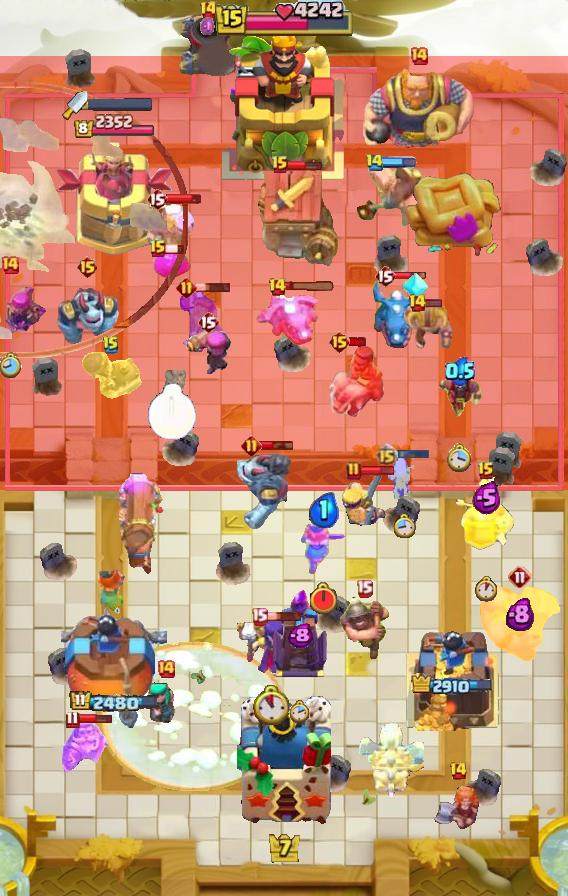archer-evolution: (0, 280, 48, 336)
bar: (284, 281, 336, 292), (266, 610, 303, 622), (195, 281, 232, 293), (259, 439, 295, 451), (166, 193, 202, 205), (381, 156, 417, 168), (78, 713, 113, 725), (287, 160, 323, 171), (360, 465, 395, 476), (395, 449, 430, 460), (393, 271, 427, 281), (165, 243, 185, 255), (349, 336, 368, 348), (424, 298, 443, 308)
bar-level: (508, 565, 532, 589), (328, 330, 351, 354), (76, 255, 99, 279), (375, 443, 398, 466), (197, 310, 219, 334), (374, 264, 396, 288), (146, 187, 168, 211), (241, 435, 262, 456), (176, 277, 197, 298), (156, 659, 176, 679), (0, 255, 20, 275), (409, 46, 429, 66), (449, 761, 468, 781), (408, 293, 427, 313), (268, 277, 287, 297), (199, 0, 218, 20), (365, 153, 384, 172), (477, 461, 495, 481), (102, 335, 120, 355), (149, 239, 167, 259), (271, 155, 289, 175), (251, 607, 268, 626), (356, 579, 373, 598), (346, 461, 362, 481), (65, 710, 80, 729)
barbarian-evolution: (340, 476, 388, 528)
bomber-evolution: (80, 348, 142, 400)
clock: (147, 383, 197, 441), (253, 685, 289, 725), (308, 582, 339, 616), (447, 442, 473, 472), (474, 576, 499, 602), (0, 352, 22, 379), (393, 513, 416, 538), (290, 700, 310, 724)
dagger-duchess-tower: (55, 142, 174, 256)
dagger-duchess-tower-bar: (88, 98, 152, 111)
dirt: (156, 370, 188, 400)
electro-dragon: (371, 278, 425, 352), (255, 290, 323, 346)
elite-barbarian: (403, 300, 453, 352)
elixir: (308, 492, 339, 528), (472, 481, 501, 515), (506, 597, 534, 631), (445, 356, 475, 386), (287, 623, 313, 649), (200, 16, 216, 37)
elixir-golem-small: (153, 251, 193, 279)
firecracker: (185, 322, 232, 378)
ice-spirit-evolution-symbol: (401, 271, 429, 303)
king-tower: (222, 31, 346, 181), (237, 696, 331, 826)
king-tower-bar: (213, 0, 355, 40)
knight-evolution: (62, 716, 108, 774)
lumberjack: (142, 202, 196, 256)
mega-minion: (53, 281, 121, 347), (237, 450, 293, 530)
miner: (337, 590, 391, 664)
mortar: (177, 11, 239, 79)
queen-tower: (61, 603, 167, 731), (405, 621, 501, 731)
ram-rider: (325, 343, 385, 419)
rascal-girl: (145, 681, 187, 729)
royal-recruit: (455, 477, 517, 553)
skeleton: (388, 453, 420, 499)
tower-bar: (69, 690, 159, 714), (73, 114, 156, 140), (411, 673, 495, 698)
valkyrie: (299, 522, 347, 576), (433, 782, 483, 832), (93, 565, 131, 617)
valkyrie-evolution: (177, 288, 229, 356)
witch: (237, 615, 305, 677)
wizard: (434, 367, 486, 423)
